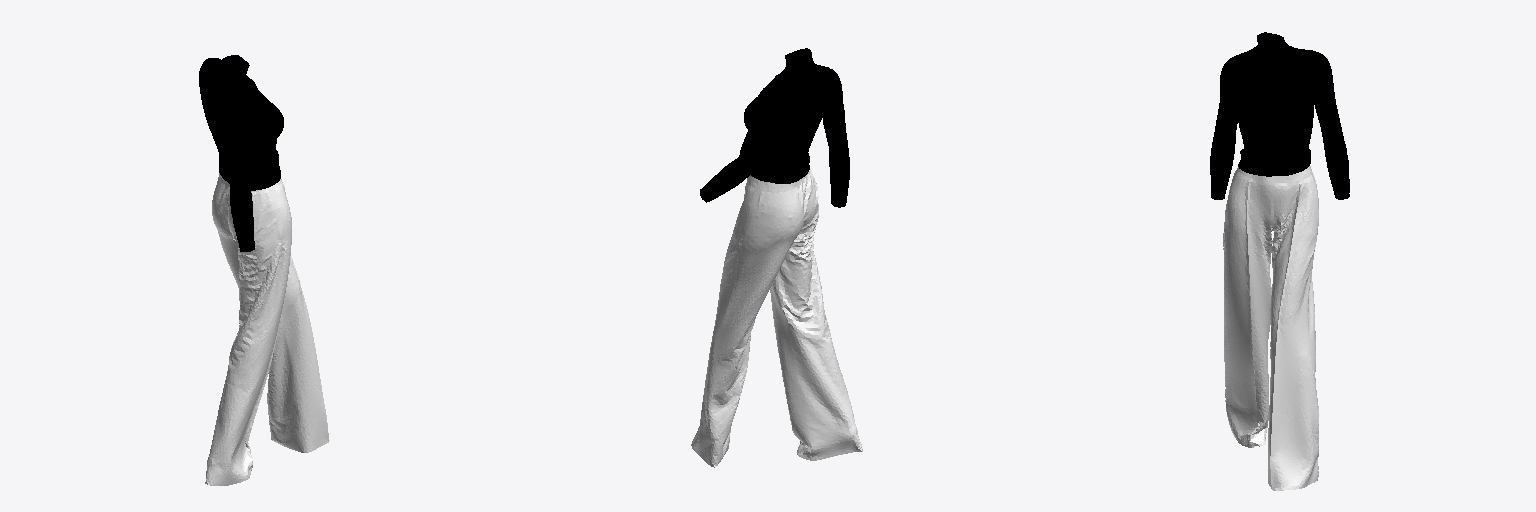
The model's file is DA_HighNeck+WidePants_0000152.obj.
3 views of the same model, side by side, from view 1: azimuth 30°, elevation 25°; view 2: azimuth 150°, elevation 25°; view 3: azimuth 270°, elevation 25° (orthographic).
Size of the model in its own units: 0.5968 by 1.62 by 0.4972.